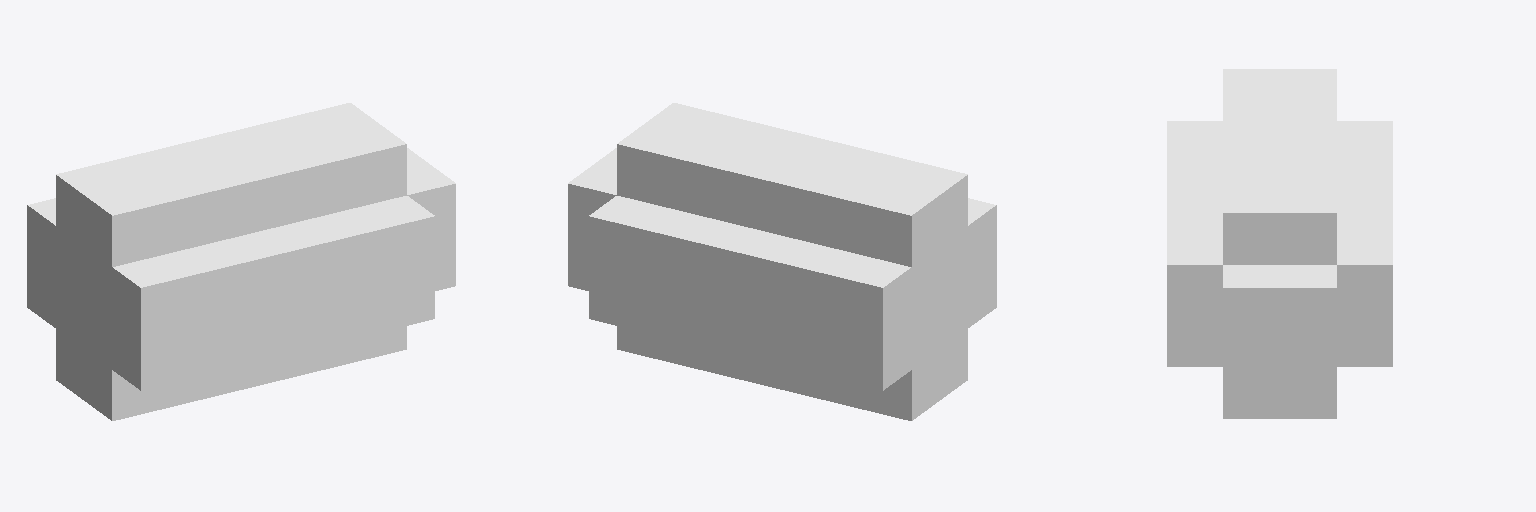
Rendered from male-52.obj.
3 views of the same model, side by side, from view 1: azimuth 30°, elevation 25°; view 2: azimuth 150°, elevation 25°; view 3: azimuth 270°, elevation 25° (orthographic).
Visible parts, largest first — view 1: object 1; view 2: object 1; view 3: object 1.
Boxes of the visible parts, x1=… form: object 1: x1=27, y1=103, x2=455, y2=420; object 1: x1=568, y1=103, x2=996, y2=420; object 1: x1=1167, y1=69, x2=1392, y2=418.
Bounding box in the file's own units: 0.7 × 0.4 × 0.4.